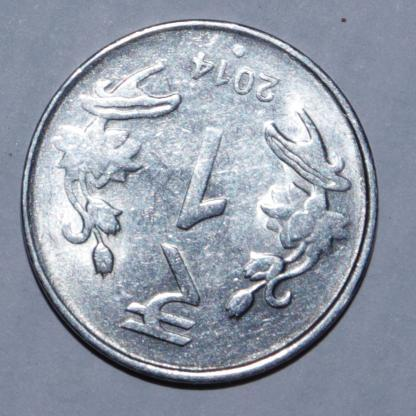coin: (20, 21, 380, 393)
